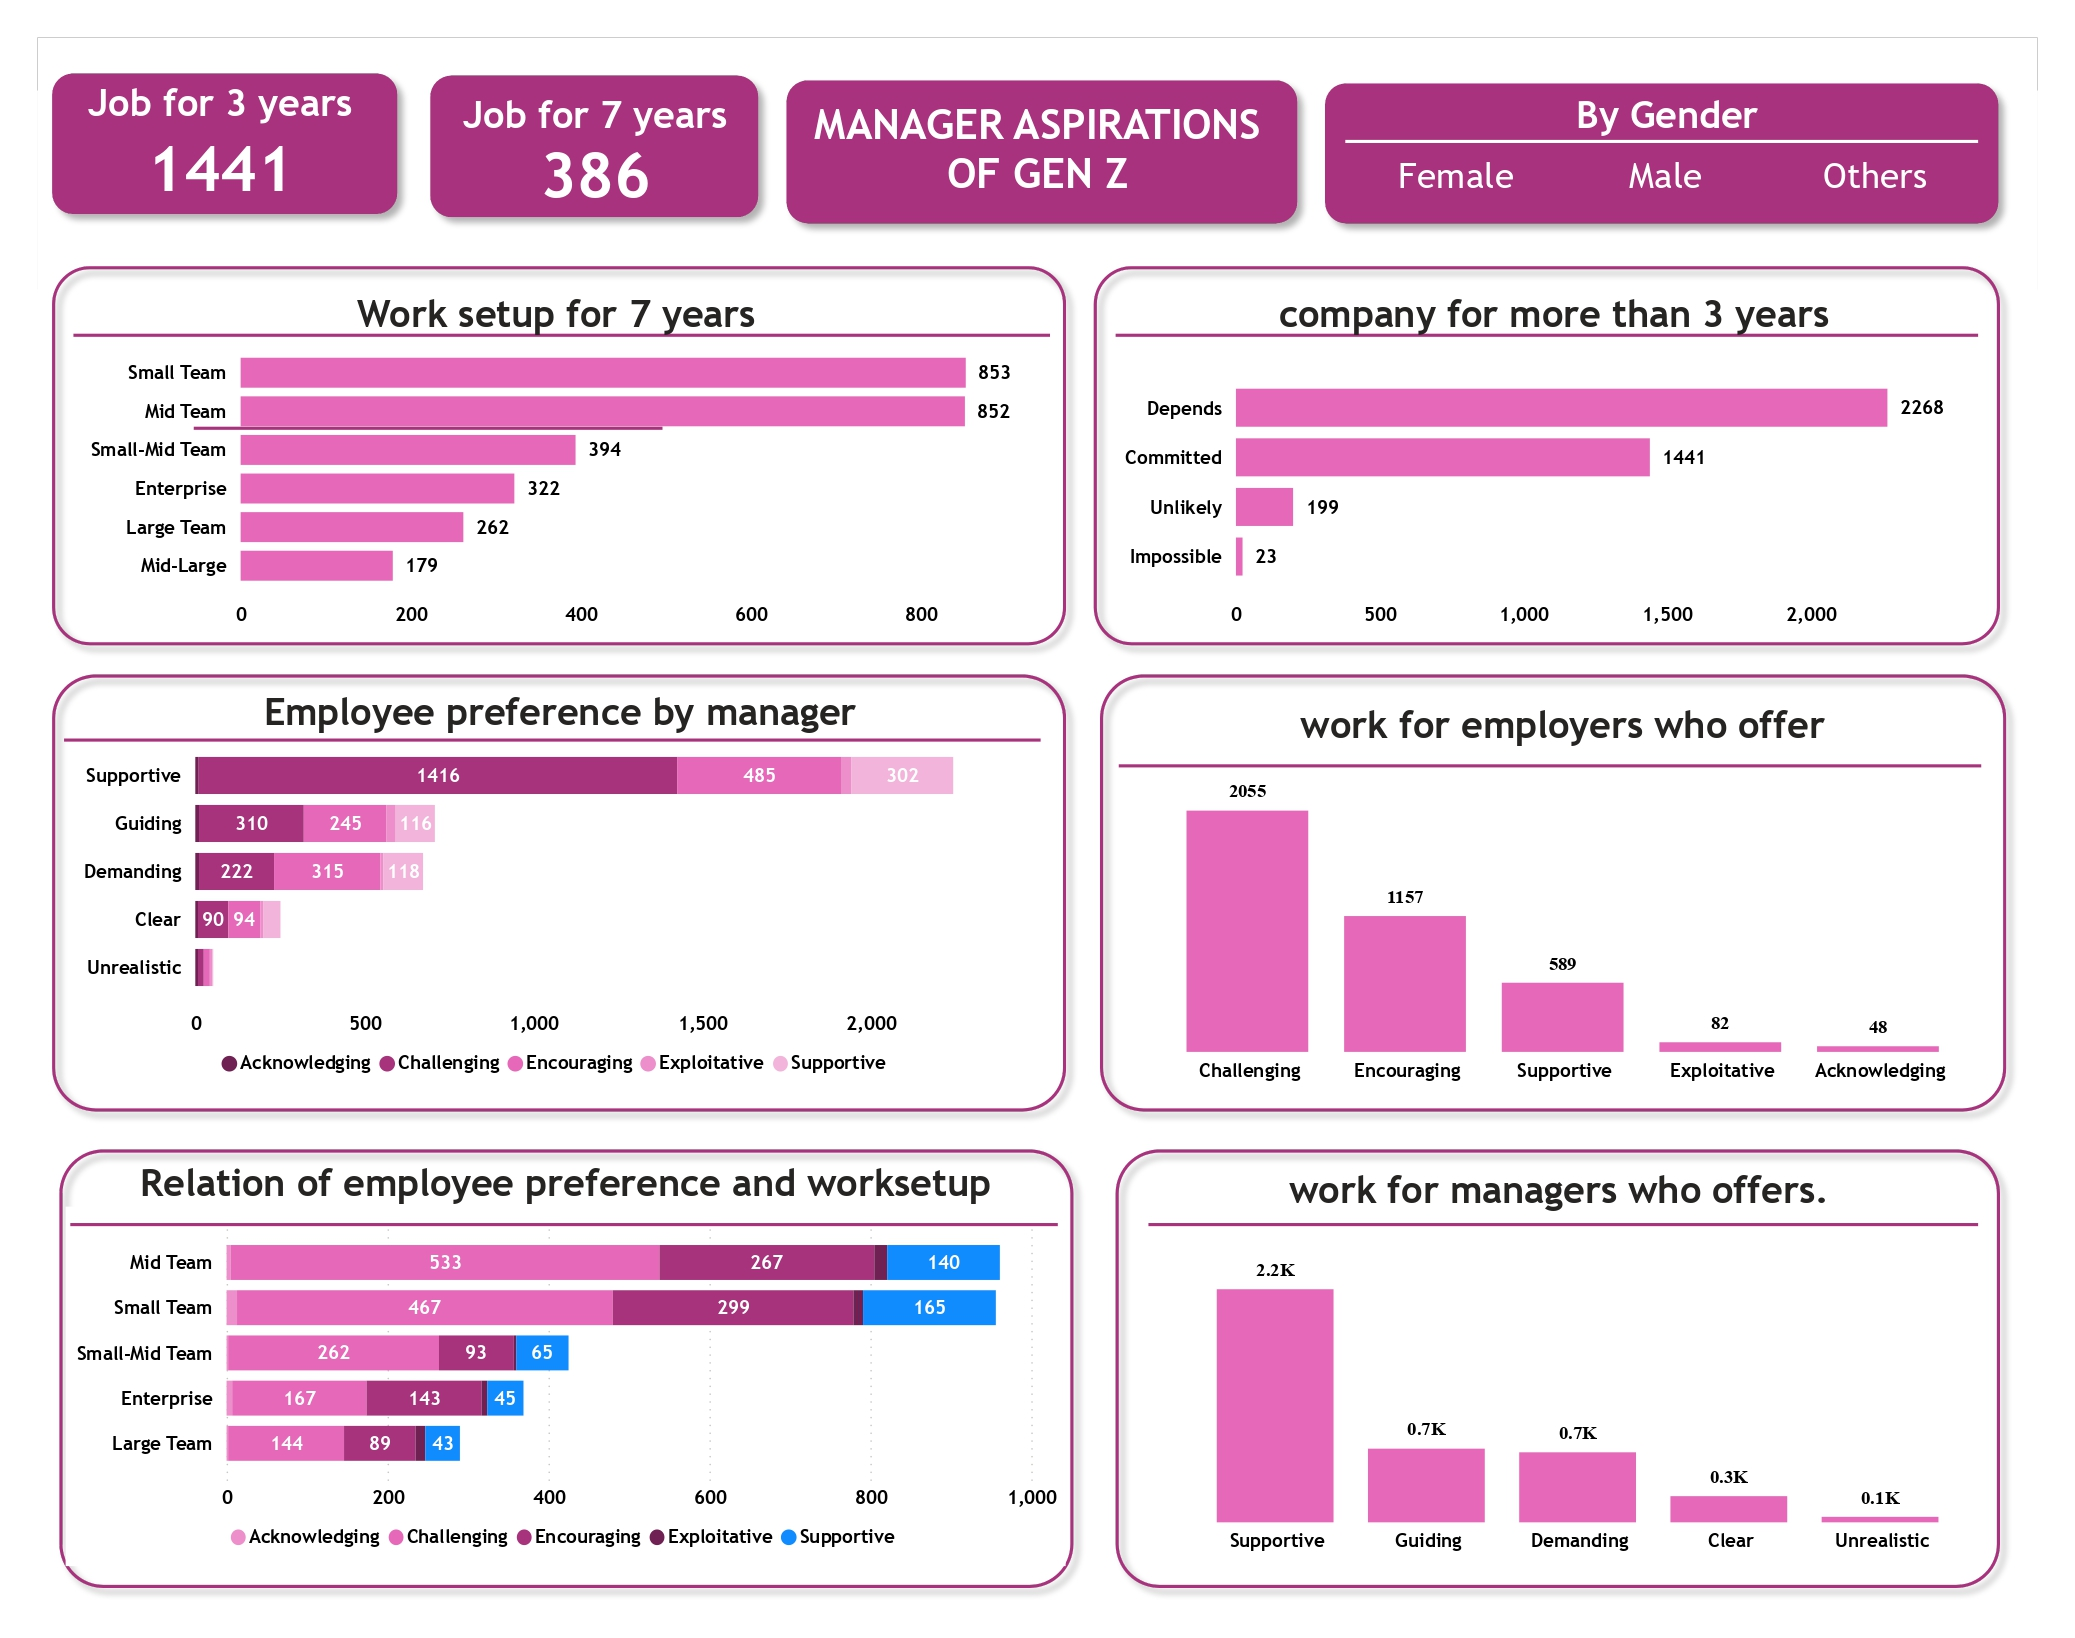

The dashboard page shown, as its layout file describes it:
{"tool":"powerbi","page":{"name":"MA","canvas":[1280,1000],"ordinal":2},"visuals":[{"type":"shape","box":[0,397.6,666.7,298.2],"z":0},{"type":"shape","box":[241.8,14.9,228.6,109.3],"z":1000},{"type":"shape","box":[470.4,18.2,344.5,109.3],"z":2000},{"type":"shape","box":[815,19.9,448.9,107.7],"z":3000},{"type":"shape","box":[0,13.8,239.3,108.1],"z":4000},{"type":"textbox","box":[487,34.8,306.4,76.2],"z":5000},{"type":"card","title":"Job for 3 years","fields":{"Values":["CountNonNull(Responses.Job Stability for (3Yrs))"]},"box":[0,26.9,234,82.8],"z":6000},{"type":"card","title":"Job for 7 years","fields":{"Values":["CountNonNull(Responses.Job Stability For (7Yrs))"]},"box":[256.8,34.8,200.4,76.2],"z":7000},{"type":"shape","box":[0,136.7,666.7,260.9],"z":8000},{"type":"advancedSlicerVisual","title":"By Gender","fields":{"Values":["Responses.Gender"]},"box":[839.8,34.8,405.8,77.9],"z":9000},{"type":"shape","box":[836.5,62.9,405.8,6.6],"z":10000},{"type":"barChart","fields":{"Category":["Responses.Work Setup"],"Y":["CountNonNull(Responses.Job Stability For (7Yrs))"]},"box":[26.9,182.2,615,202.9],"z":11000},{"type":"shape","box":[22.8,182.2,625.3,16.6],"z":12000},{"type":"textbox","box":[124.2,412,420.3,45.6],"z":13000},{"type":"shape","box":[666.7,136.7,598.4,260.9],"z":14000},{"type":"barChart","fields":{"Category":["Responses.Job Stability for (3Yrs)"],"Y":["CountNonNull(Responses.Gender)"]},"box":[689.5,198.8,557,186.4],"z":15000},{"type":"shape","box":[689.5,182.2,552.9,16.6],"z":16000},{"type":"textbox","box":[768.2,157.4,397.6,41.4],"z":17000},{"type":"shape","box":[670.9,397.6,598.4,298.2],"z":18000},{"type":"barChart","fields":{"Category":["Responses. Ideal Manager"],"Y":["CountNonNull(Responses.Gender)"],"Series":["Responses.Employer Preference"]},"box":[22.8,434.8,619.1,240.2],"z":19000},{"type":"shape","box":[16.6,441,625.3,16.6],"z":20000},{"type":"textbox","box":[153.2,157.4,358.2,41.4],"z":21000},{"type":"columnChart","fields":{"Category":["Responses.Employer Preference"],"Y":["CountNonNull(Responses.Gender)"]},"box":[689.5,457.6,575.6,219.5],"z":22000},{"type":"shape","box":[691.6,457.6,552.9,16.6],"z":23000},{"type":"textbox","box":[766.1,420.3,420.3,45.6],"z":24000},{"type":"shape","box":[4.6,701.7,667.2,299.1],"z":25000},{"type":"shape","box":[681,701.7,584.4,299.1],"z":26000},{"type":"barChart","fields":{"Category":["Responses.Work Setup"],"Series":["Responses.Employer Preference"],"Y":["CountNonNull(Responses.Gender)"]},"box":[18.4,747.7,639.6,230.1],"z":27000},{"type":"shape","box":[100,100,300,300],"z":28000},{"type":"shape","box":[20.7,747.7,632.7,23],"z":29000},{"type":"textbox","box":[18.4,713.2,639.6,46],"z":30000},{"type":"shape","box":[710.9,747.7,531.5,23],"z":31000},{"type":"columnChart","fields":{"Category":["Responses. Ideal Manager"],"Y":["CountNonNull(Responses.Gender)"]},"box":[710.9,766.1,552.2,211.7],"z":32000},{"type":"textbox","box":[708.6,717.8,522.3,41.4],"z":33000}]}

Visuals, with their boxes in screenshot pixels (x1, y1, x2, y2):
shape: crop(38, 659, 1079, 1125)
shape: crop(415, 61, 772, 232)
shape: crop(772, 66, 1311, 237)
shape: crop(1311, 69, 2012, 237)
shape: crop(38, 59, 411, 228)
textbox: crop(798, 92, 1277, 211)
"Job for 3 years" card: crop(38, 80, 403, 209)
"Job for 7 years" card: crop(439, 92, 752, 211)
shape: crop(38, 251, 1079, 659)
"By Gender" advancedSlicerVisual: crop(1350, 92, 1984, 214)
shape: crop(1345, 136, 1979, 146)
barChart - Responses.Work Setup x CountNonNull(Responses.Job Stability For (7Yrs)): crop(80, 322, 1040, 639)
shape: crop(73, 322, 1050, 348)
textbox: crop(232, 681, 888, 753)
shape: crop(1079, 251, 2014, 659)
barChart - Responses.Job Stability for (3Yrs) x CountNonNull(Responses.Gender): crop(1115, 348, 1985, 640)
shape: crop(1115, 322, 1979, 348)
textbox: crop(1238, 284, 1859, 348)
shape: crop(1086, 659, 2021, 1125)
barChart - Responses. Ideal Manager x CountNonNull(Responses.Gender): crop(73, 717, 1040, 1093)
shape: crop(63, 727, 1040, 753)
textbox: crop(277, 284, 837, 348)
columnChart - Responses.Employer Preference x CountNonNull(Responses.Gender): crop(1115, 753, 2014, 1096)
shape: crop(1118, 753, 1982, 779)
textbox: crop(1235, 694, 1891, 766)
shape: crop(45, 1134, 1087, 1600)
shape: crop(1102, 1134, 2015, 1600)
barChart - Responses.Work Setup x Responses.Employer Preference: crop(66, 1206, 1066, 1566)
shape: crop(194, 194, 662, 663)
shape: crop(70, 1206, 1058, 1242)
textbox: crop(66, 1152, 1066, 1224)
shape: crop(1148, 1206, 1979, 1242)
columnChart - Responses. Ideal Manager x CountNonNull(Responses.Gender): crop(1148, 1235, 2011, 1566)
textbox: crop(1145, 1159, 1961, 1224)
